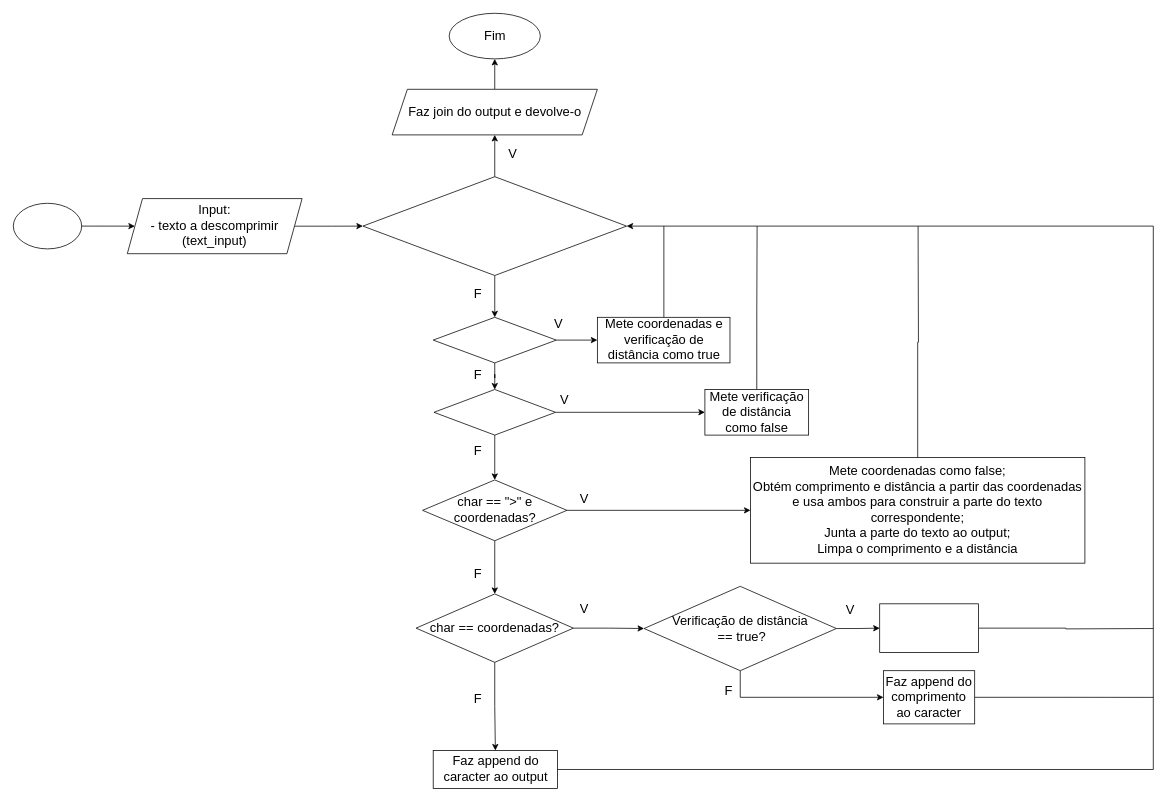
Some shapes in this 1173 by 802 pixel diagram are drawn without their labels. Each missing label, with the centre of its shape:
char == "," ?: [494,412]
char == "<" ?: [494,340]
Faz append da distância ao caracter: [928,627]
Início: [47,226]
Ler cada caracter do text_input. Chegou ao último caracter?: [494,226]
